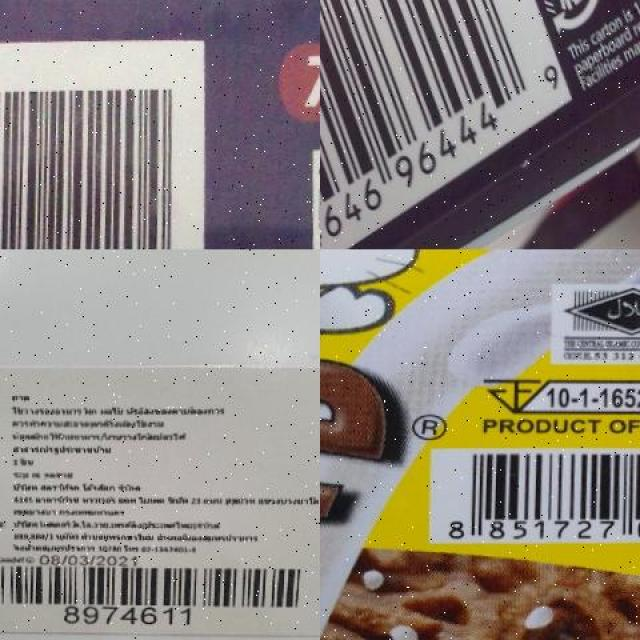Barcode: (320, 0, 580, 249), (0, 46, 201, 249), (0, 558, 319, 626), (428, 445, 640, 539)
